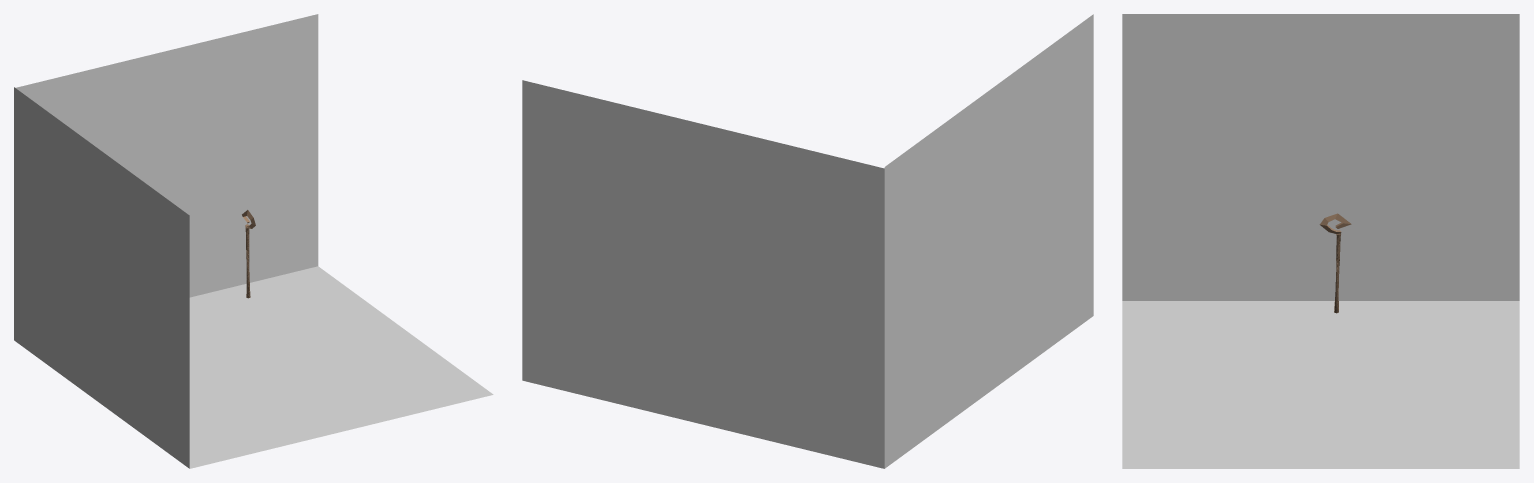
File: 木の杖.fbx
3 renders of one model, left to right at view 1: azimuth 30°, elevation 25°; view 2: azimuth 150°, elevation 25°; view 3: azimuth 270°, elevation 25°, orthographic. The views are drawn at different scales.
Parts seen in each view (by area): view 1: 平面; view 2: 平面; view 3: 平面.
Part boxes in pixels (bbox=[...]): 平面: bbox=[14, 14, 493, 468]; 平面: bbox=[522, 14, 1093, 468]; 平面: bbox=[1122, 14, 1519, 468].
Bounding box in the file's own units: 2624 × 2089 × 2624.
3 materials, 2 textured.
